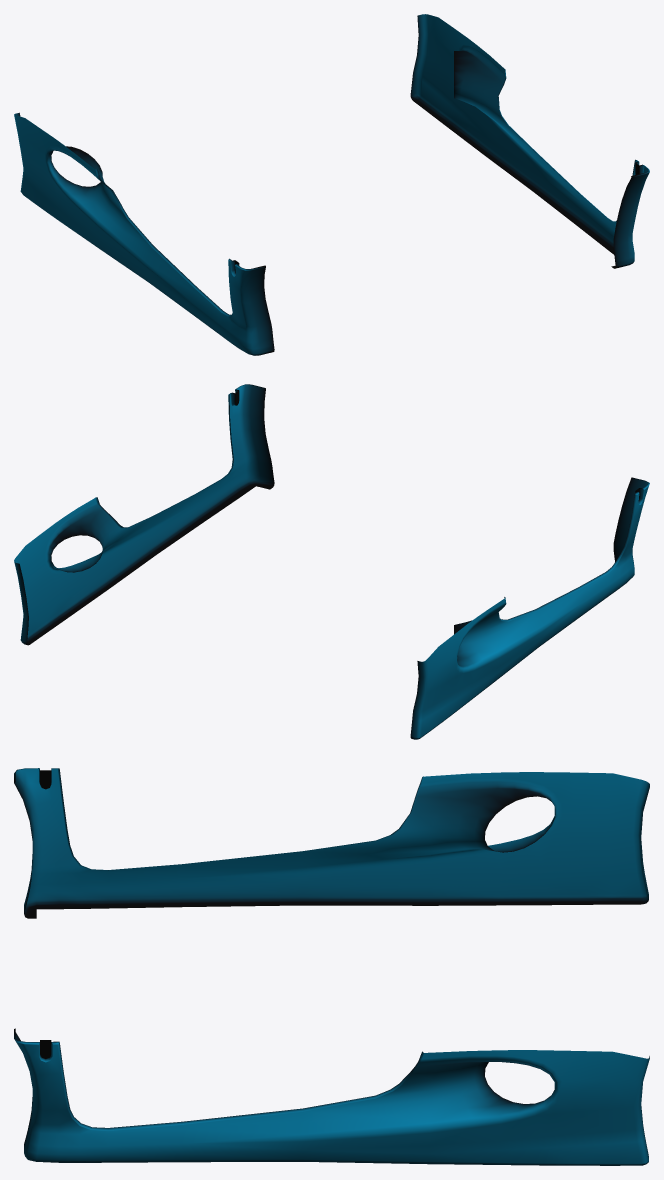
The model's file is MC_XJ220s_Skirt01_Duco.fbx.
3 renders of one model, top to bottom at view 1: azimuth 30°, elevation 25°; view 2: azimuth 150°, elevation 25°; view 3: azimuth 270°, elevation 25°, orthographic. The views are drawn at different scales.
Parts seen in each view (by area): view 1: MC_XJ220s_Skirt01_Duco; view 2: MC_XJ220s_Skirt01_Duco; view 3: MC_XJ220s_Skirt01_Duco.
Part boxes in pixels (x1,y1,x2,y2): MC_XJ220s_Skirt01_Duco: (14,14,649,355); MC_XJ220s_Skirt01_Duco: (14,384,649,739); MC_XJ220s_Skirt01_Duco: (14,768,649,1165).
Bounding box in the file's own units: 203 × 43.66 × 196.
